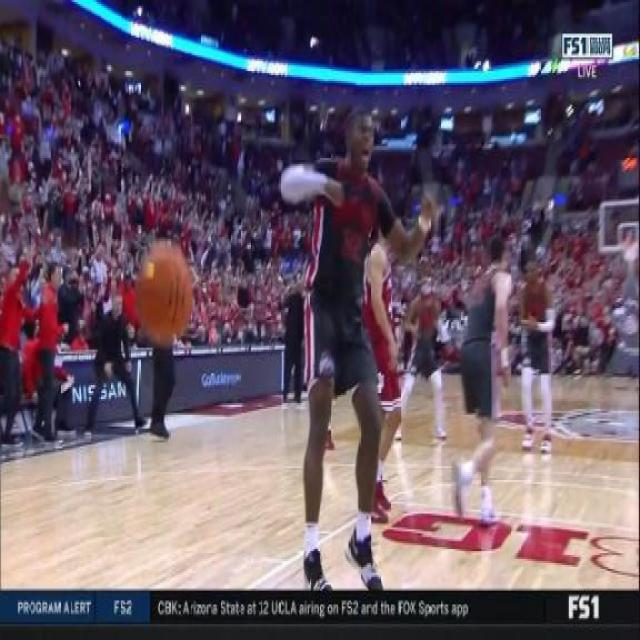Basketball: (136, 239, 192, 347)
